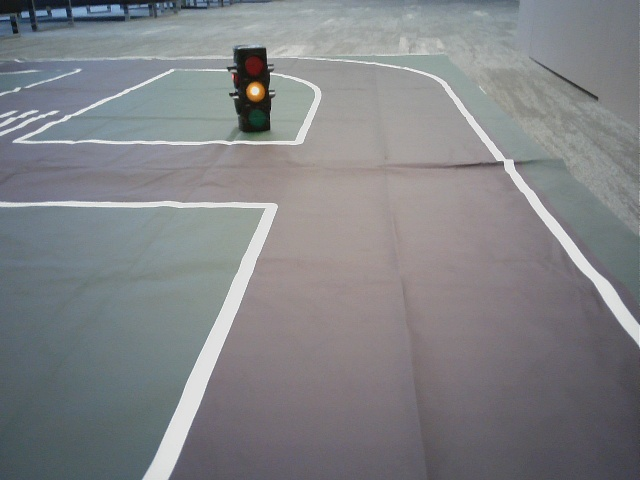yellow: (236, 49, 270, 131)
